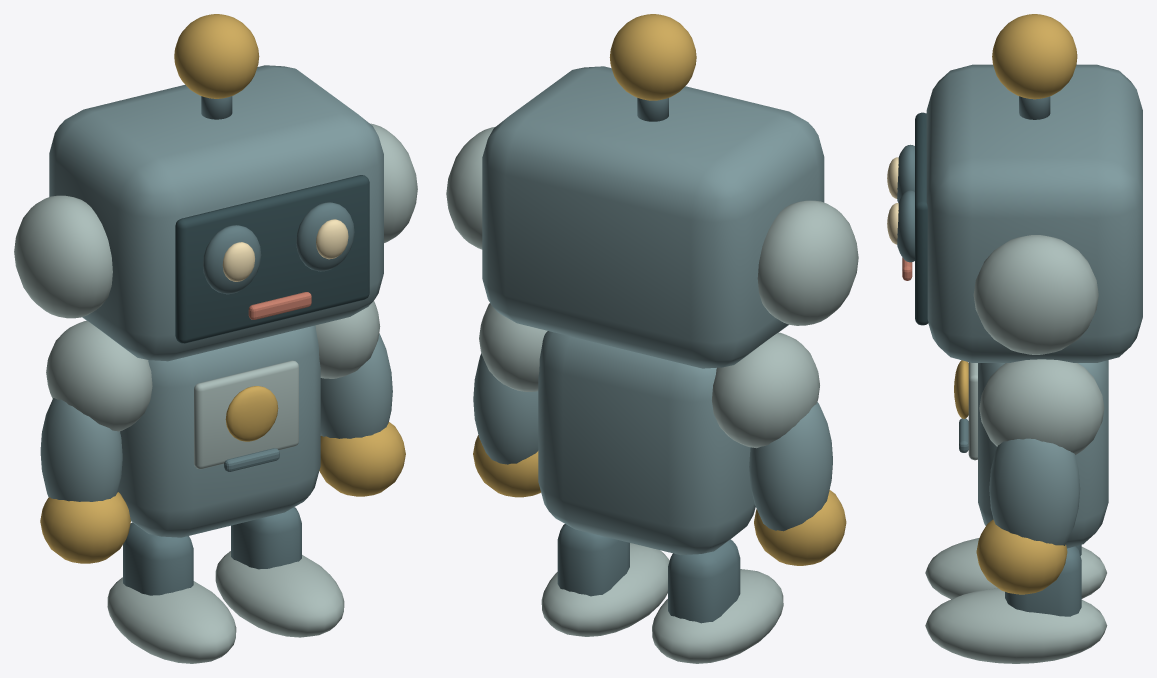
Rendered from robot_friend.glb.
3 renders of one model, left to right at view 1: azimuth 30°, elevation 25°; view 2: azimuth 150°, elevation 25°; view 3: azimuth 270°, elevation 25°, orthographic. The views are drawn at different scales.
Visible parts, largest first — view 1: Robot Friend | head shell, Robot Friend | torso, Robot Friend | face screen, Robot Friend | ear pod, Robot Friend | shoulder, Robot Friend | foot, Robot Friend | foot.001, Robot Friend | chest panel, Robot Friend | arm, Robot Friend | antenna orb, Robot Friend | arm.001, Robot Friend | hand (+13 smaller); view 2: Robot Friend | head shell, Robot Friend | torso, Robot Friend | ear pod, Robot Friend | shoulder, Robot Friend | arm, Robot Friend | foot, Robot Friend | foot.001, Robot Friend | antenna orb, Robot Friend | arm.001, Robot Friend | shin, Robot Friend | shin.001, Robot Friend | shoulder.001 (+4 smaller); view 3: Robot Friend | head shell, Robot Friend | ear pod.001, Robot Friend | foot.001, Robot Friend | shoulder.001, Robot Friend | arm.001, Robot Friend | antenna orb, Robot Friend | torso, Robot Friend | hand.001, Robot Friend | foot, Robot Friend | face screen, Robot Friend | shin.001, Robot Friend | eye bezel.001 (+6 smaller).
Boxes of the visible parts, x1,y1,x2,y2 form: Robot Friend | head shell: (49, 65, 383, 361); Robot Friend | torso: (118, 325, 320, 537); Robot Friend | face screen: (175, 175, 369, 343); Robot Friend | ear pod: (14, 195, 112, 318); Robot Friend | shoulder: (46, 320, 152, 431); Robot Friend | foot: (107, 577, 236, 663); Robot Friend | foot.001: (215, 551, 344, 637); Robot Friend | chest panel: (194, 360, 298, 469); Robot Friend | arm: (40, 398, 122, 501); Robot Friend | antenna orb: (174, 14, 259, 98); Robot Friend | arm.001: (320, 333, 392, 438); Robot Friend | hand: (40, 492, 130, 563); Robot Friend | head shell: (482, 66, 824, 368); Robot Friend | torso: (538, 331, 755, 555); Robot Friend | ear pod: (757, 200, 858, 325); Robot Friend | shoulder: (712, 332, 819, 448); Robot Friend | arm: (749, 402, 832, 531); Robot Friend | foot: (652, 569, 783, 663); Robot Friend | foot.001: (541, 543, 669, 636); Robot Friend | antenna orb: (609, 14, 696, 100); Robot Friend | arm.001: (473, 353, 538, 464); Robot Friend | shin: (668, 539, 740, 623); Robot Friend | shin.001: (557, 524, 629, 596); Robot Friend | shoulder.001: (479, 303, 547, 391); Robot Friend | head shell: (926, 64, 1142, 362); Robot Friend | ear pod.001: (973, 235, 1098, 354); Robot Friend | foot.001: (925, 588, 1107, 663); Robot Friend | shoulder.001: (979, 359, 1104, 454); Robot Friend | arm.001: (989, 438, 1080, 545); Robot Friend | antenna orb: (992, 14, 1077, 99); Robot Friend | torso: (978, 360, 1108, 548); Robot Friend | hand.001: (976, 519, 1067, 594); Robot Friend | foot: (925, 538, 1106, 599); Robot Friend | face screen: (915, 112, 928, 325); Robot Friend | shin.001: (1005, 546, 1081, 616); Robot Friend | eye bezel.001: (897, 190, 914, 262).
Bounding box in the file's own units: 1.56 × 2.38 × 0.899.
